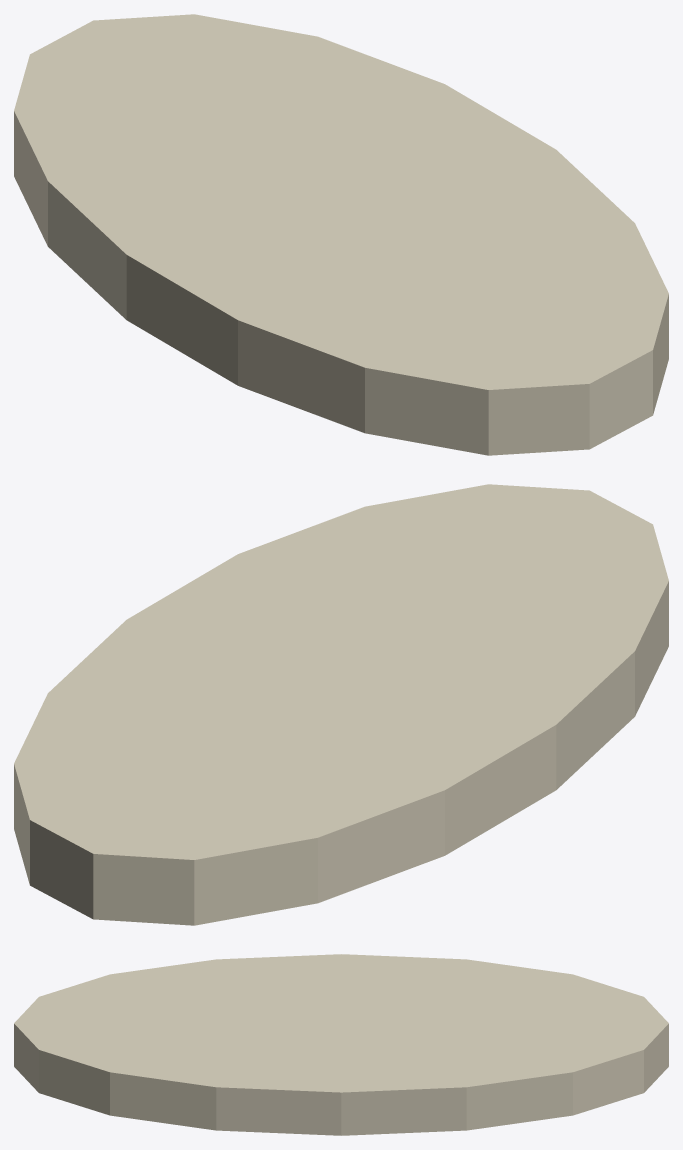
File: lamp_lens.glb
3 views of the same model, one above another, from view 1: azimuth 30°, elevation 25°; view 2: azimuth 150°, elevation 25°; view 3: azimuth 270°, elevation 25° (orthographic). The views are drawn at different scales.
Size of the model in its own units: 0.48 by 0.07 by 0.96.
